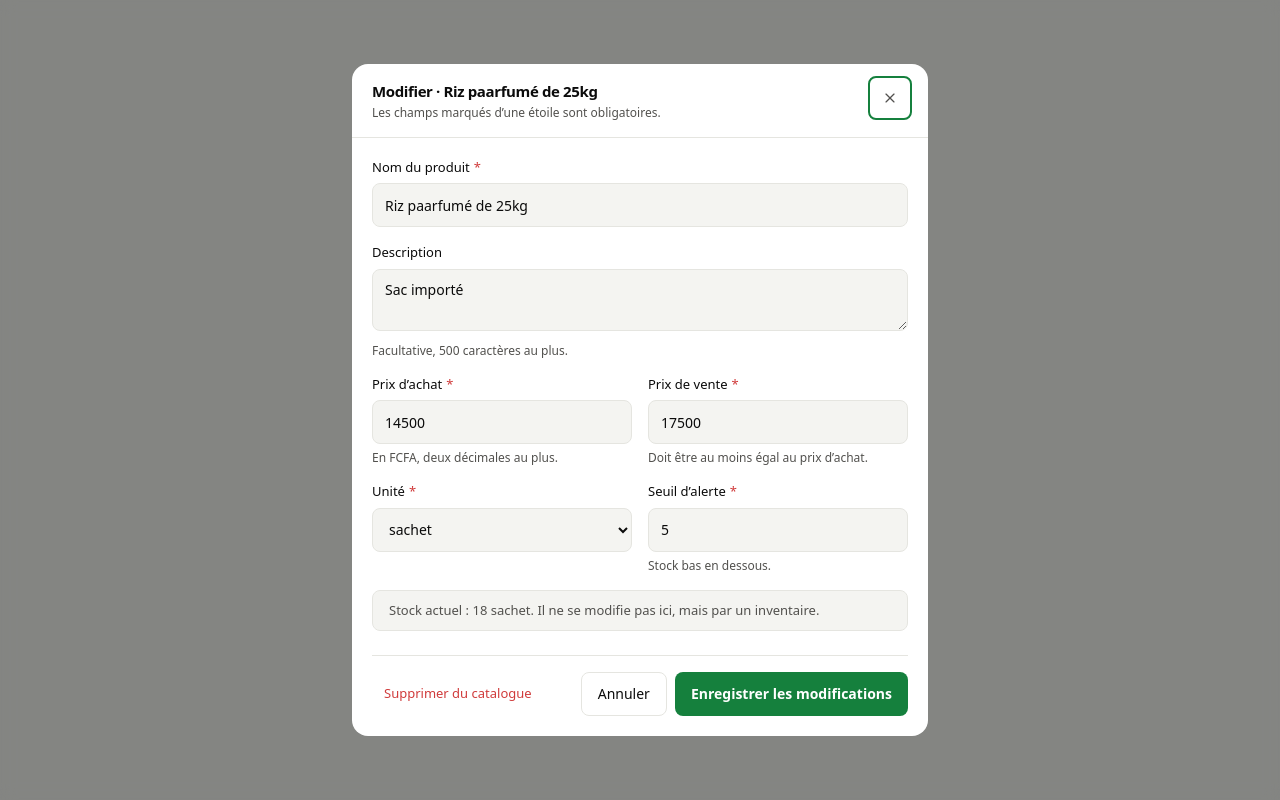
Test case: modification d'un produit › garde la saisie de l’utilisateur après un refus
Replace the text in the field labelled "Nom du produit*" with "Spagetti": (640, 205) [372,183,908,227]
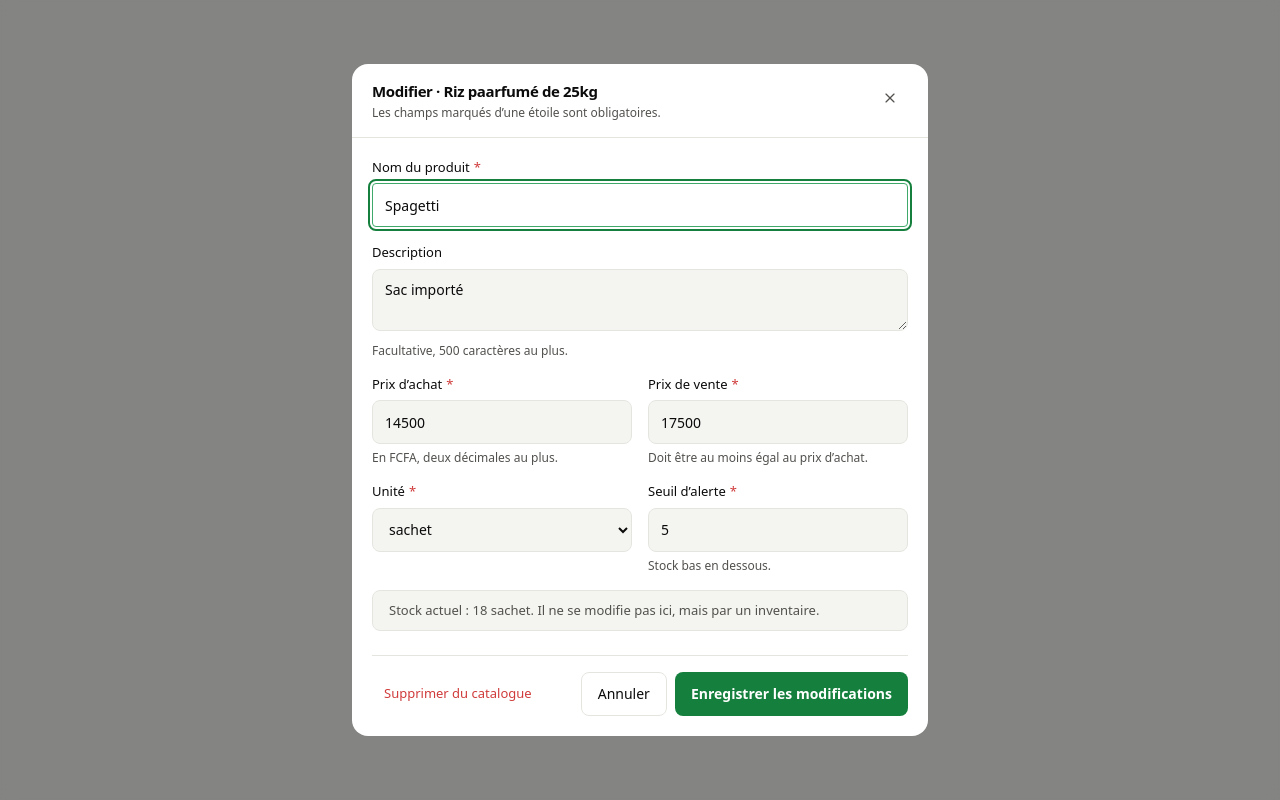
Click the button "Enregistrer les modifications": (791, 694) [675,672,908,716]
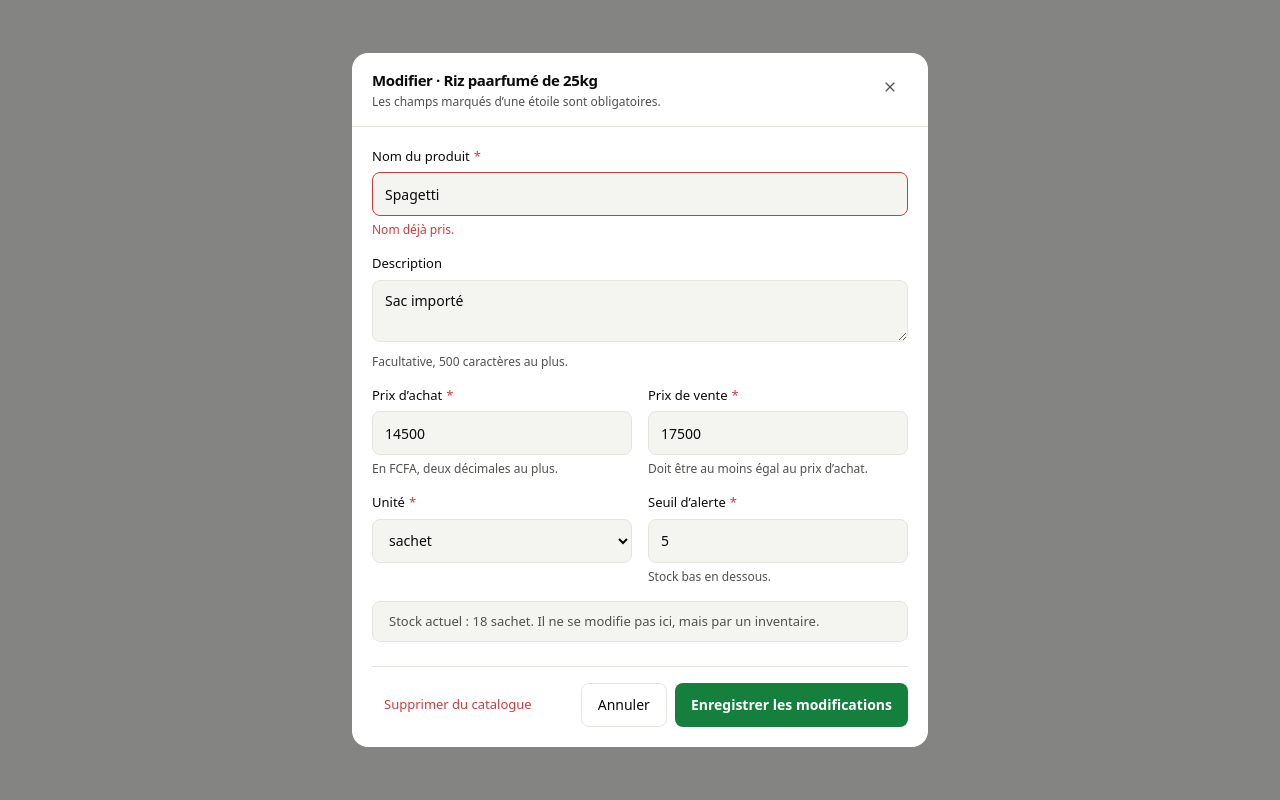
expect the text "Nom déjà pris." is shown: met, box [372,221,454,238]
